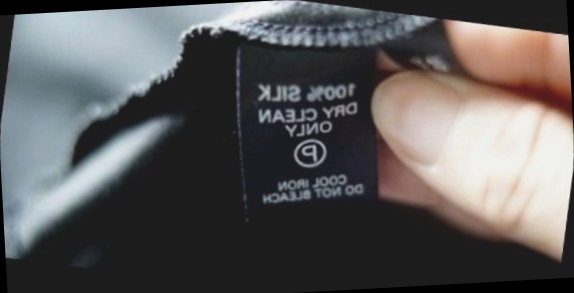dry_clean_any_solvent_except_trichloroethylene: (286, 130, 333, 175)
